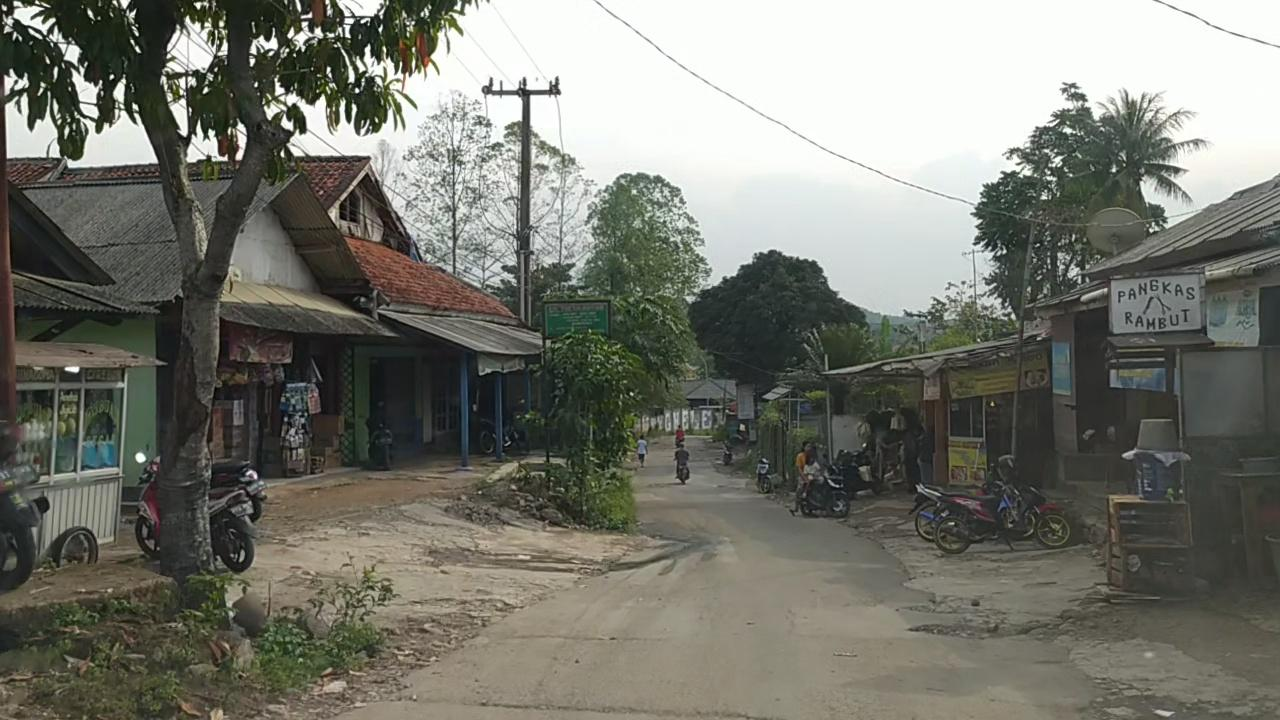pothole: (906, 617, 1051, 641), (897, 592, 995, 615)
